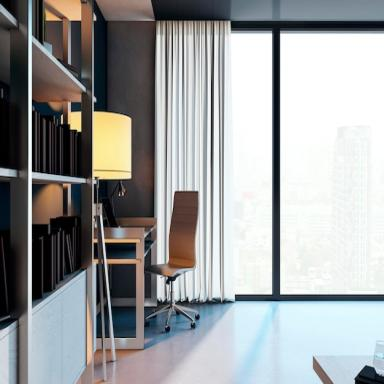glass_panel: (282, 35, 382, 293), (232, 34, 274, 293), (51, 219, 64, 286), (34, 226, 46, 298), (67, 217, 78, 272)
